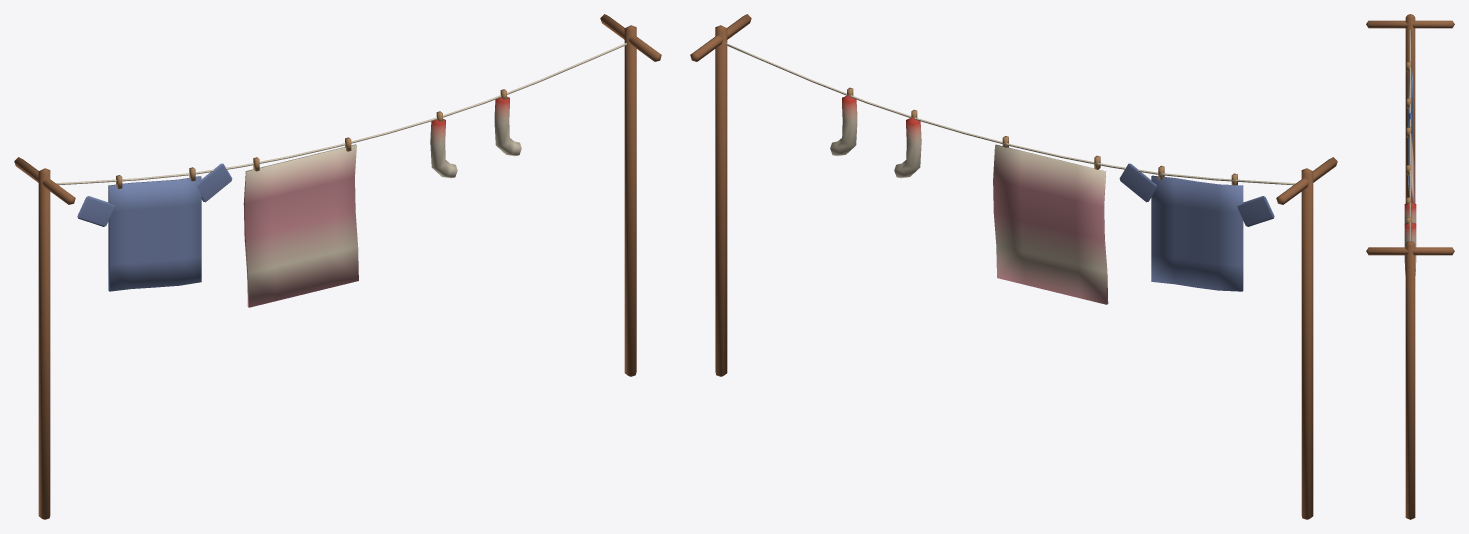
File: washing_line.glb
The picture shows the model from 3 angles, left to right: view 1: azimuth 30°, elevation 25°; view 2: azimuth 150°, elevation 25°; view 3: azimuth 270°, elevation 25°; orthographic projection. The views are drawn at different scales.
Visible parts, largest first — view 1: washing_line, sock_loose; view 2: washing_line, sock_loose; view 3: washing_line, sock_loose.
Part boxes in pixels (x1=…): washing_line: x1=14, y1=14, x2=661, y2=519; sock_loose: x1=494, y1=89, x2=521, y2=156; washing_line: x1=690, y1=14, x2=1337, y2=519; sock_loose: x1=830, y1=87, x2=857, y2=156; washing_line: x1=1366, y1=14, x2=1454, y2=519; sock_loose: x1=1404, y1=217, x2=1416, y2=275.
Size of the model in its own units: 3.25 by 1.84 by 0.53.
